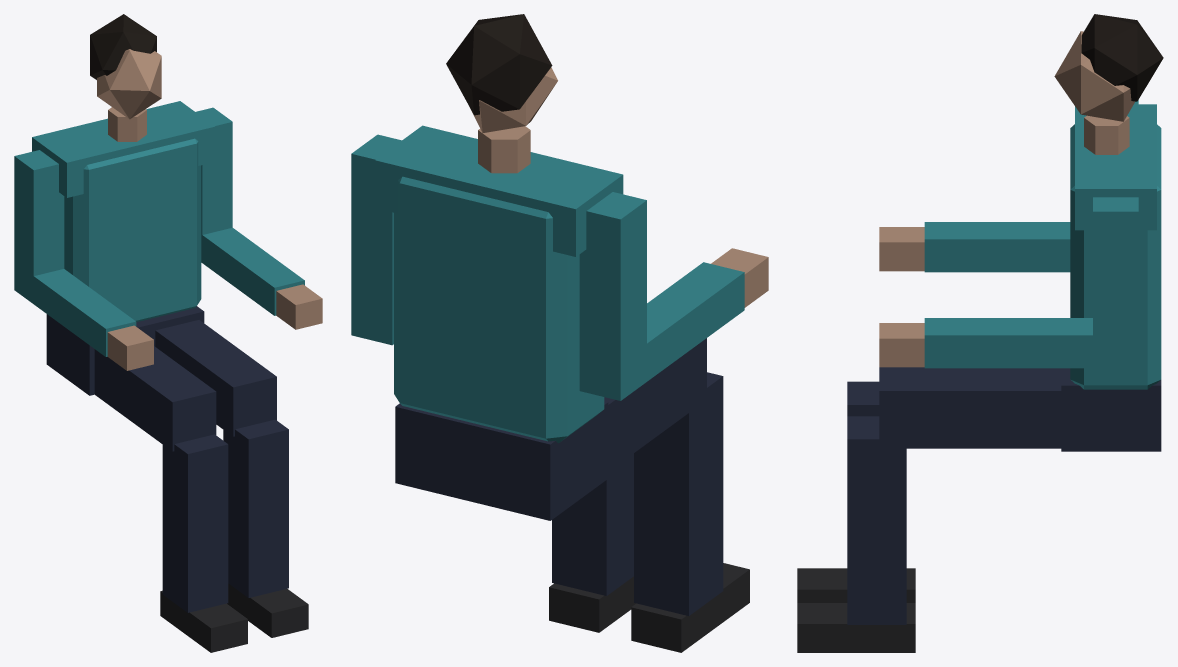
The model's file is person_seated_a.glb.
The picture shows the model from 3 angles, left to right: view 1: azimuth 30°, elevation 25°; view 2: azimuth 150°, elevation 25°; view 3: azimuth 270°, elevation 25°; orthographic projection. The views are drawn at different scales.
Parts seen in each view (by area): view 1: Body_LOD0; view 2: Body_LOD0; view 3: Body_LOD0.
Part boxes in pixels (<box>): Body_LOD0: <box>14,14,322,652</box>; Body_LOD0: <box>351,14,768,652</box>; Body_LOD0: <box>797,14,1163,652</box>.
Bounding box in the file's own units: 0.59 × 1.47 × 0.805.
